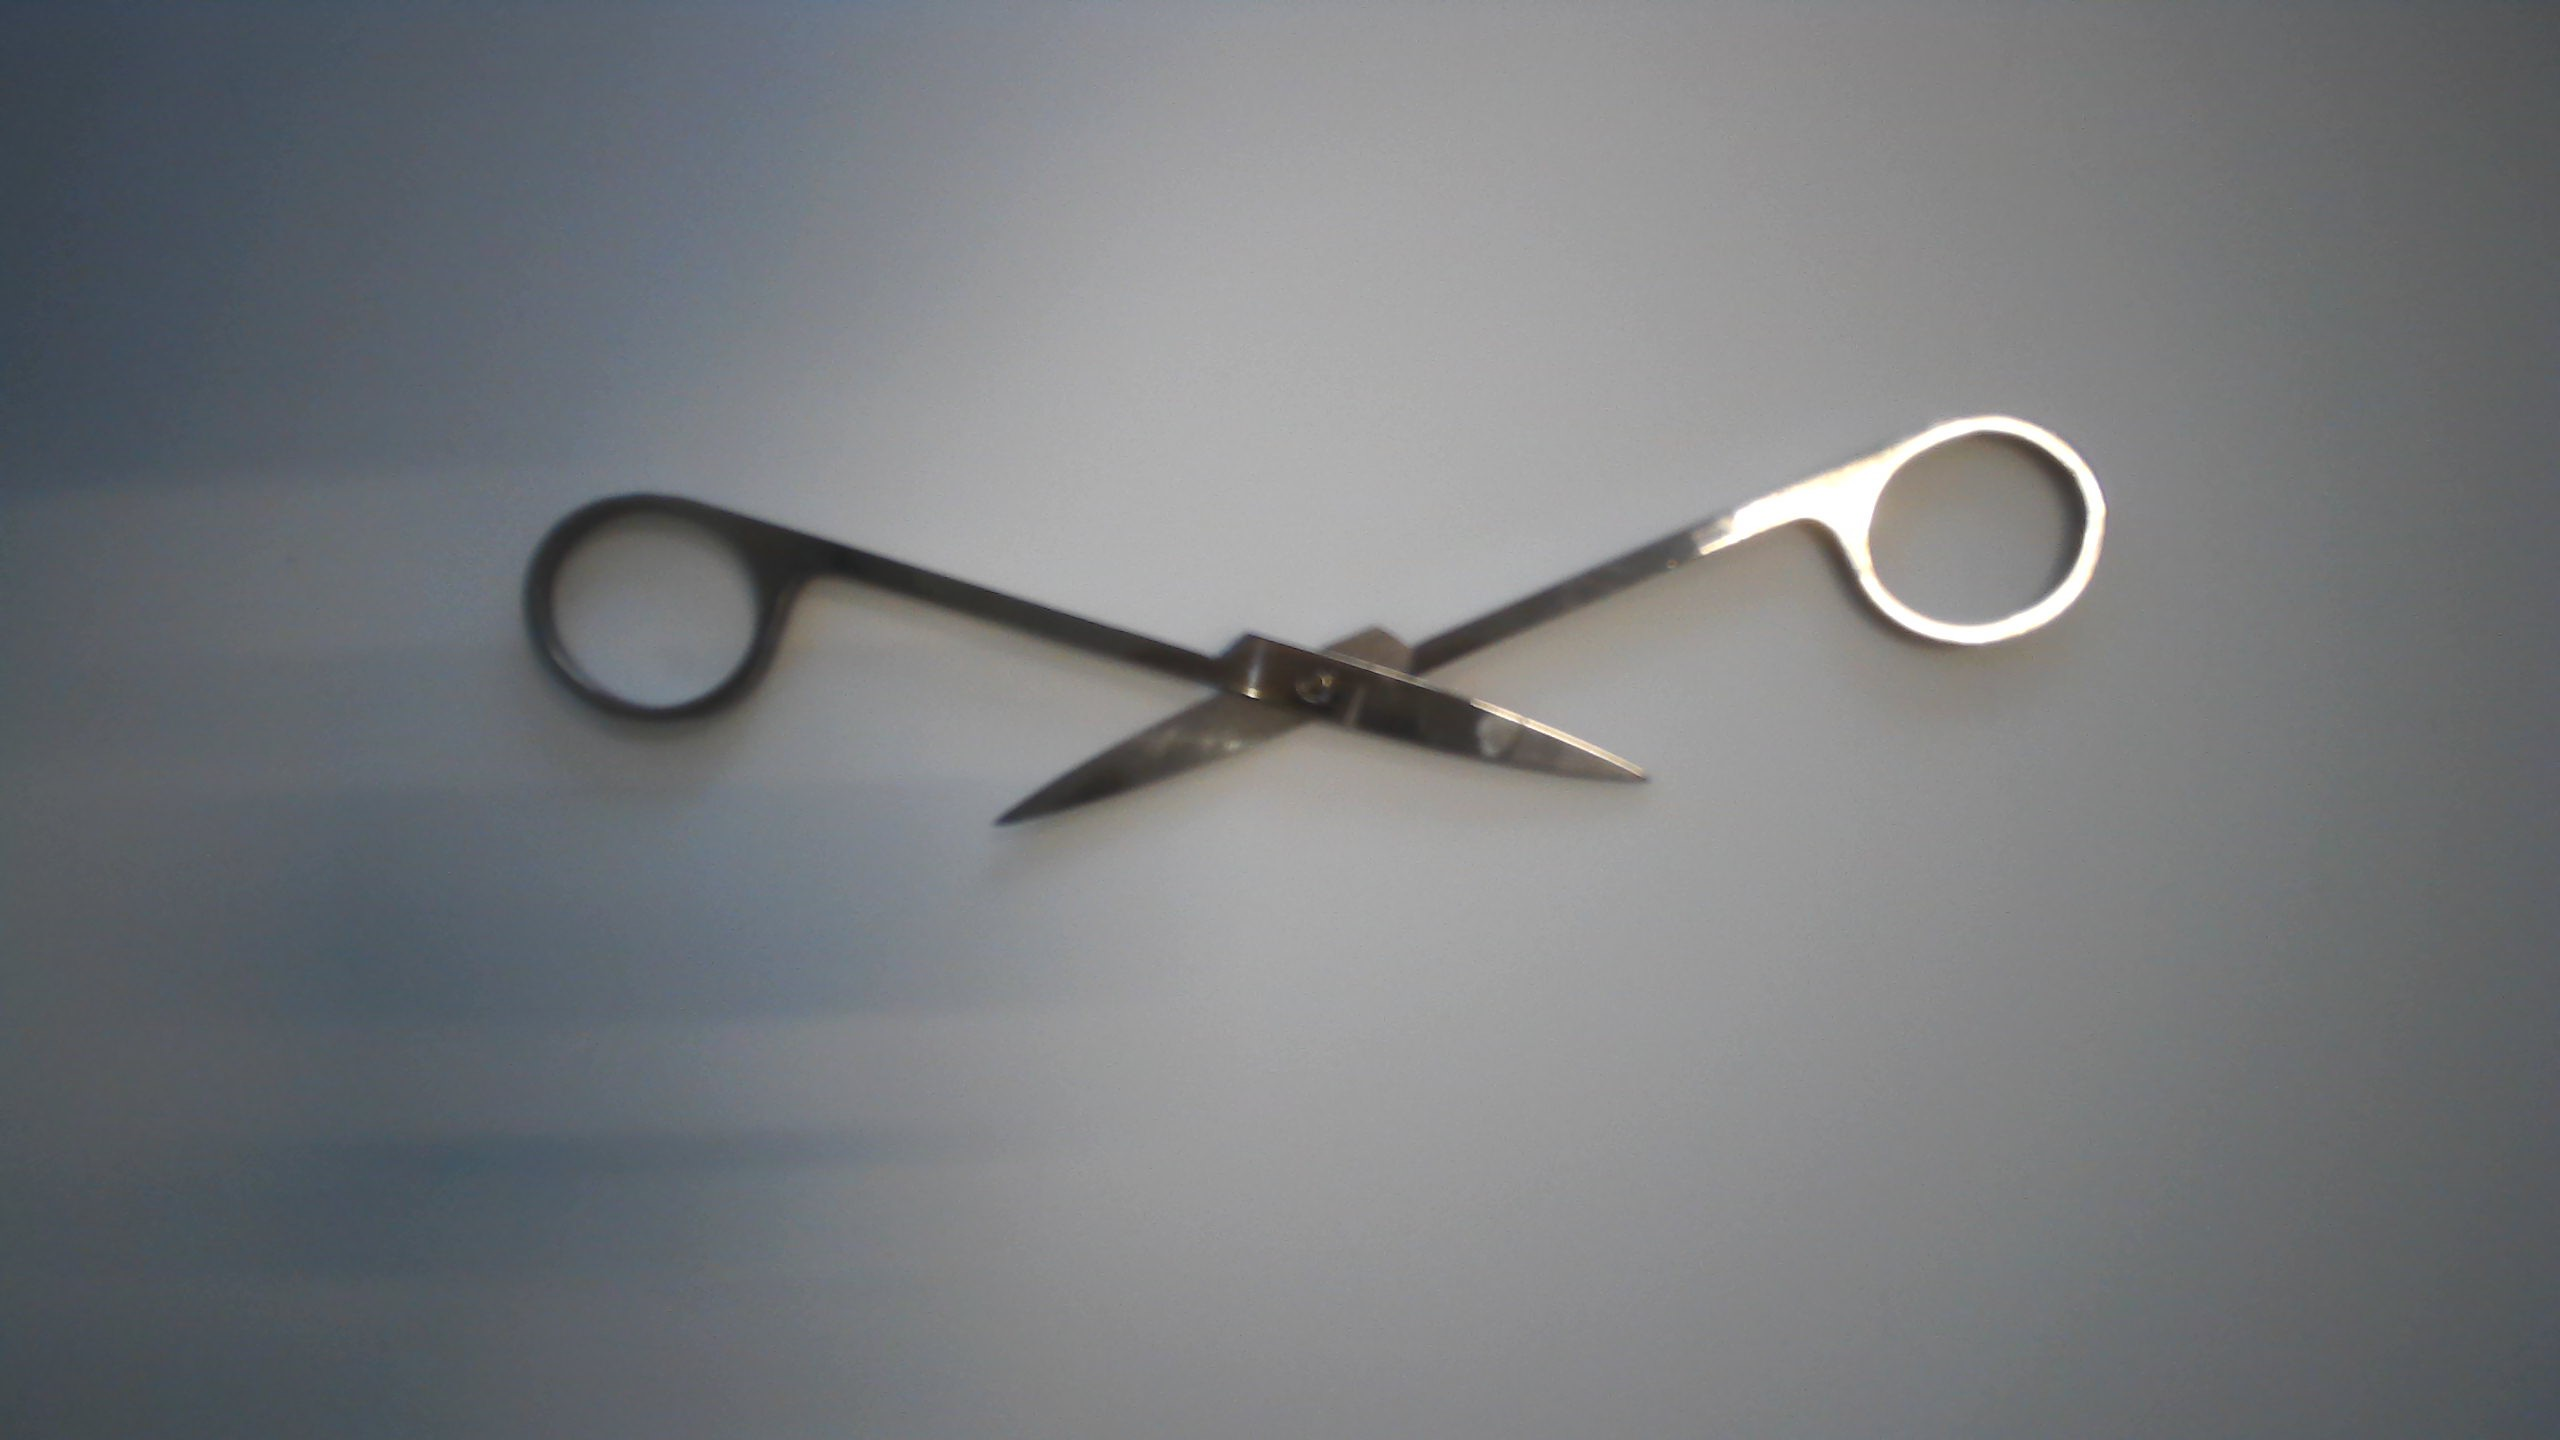Tissues: (1465, 705, 1538, 768)
